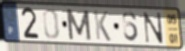0: (42, 8, 60, 41)
2: (20, 6, 41, 40)
6: (121, 11, 139, 43)
K: (93, 9, 112, 43)
M: (65, 8, 93, 42)
N: (143, 11, 165, 45)
